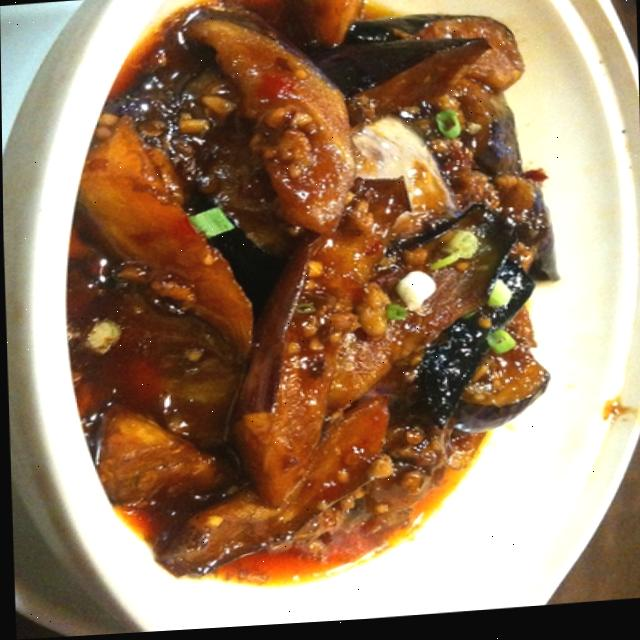鸡蛋料理: (23, 0, 584, 622)
